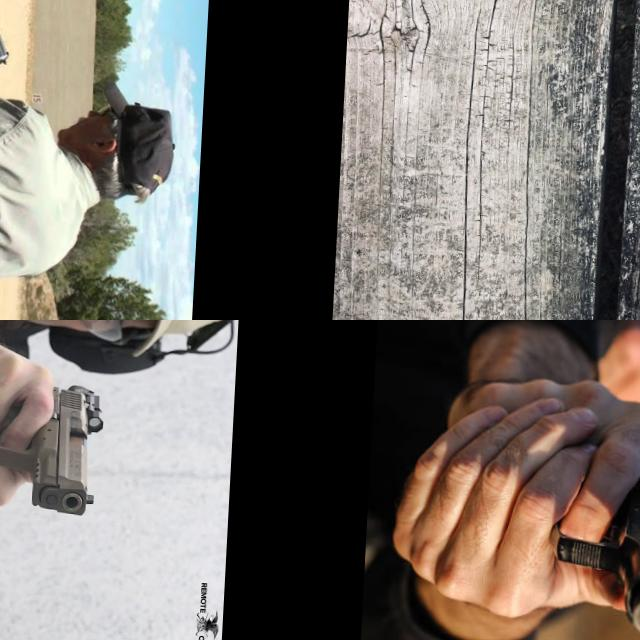handgun: (509, 84, 640, 320), (549, 446, 640, 640), (0, 379, 106, 522), (0, 1, 22, 68)
